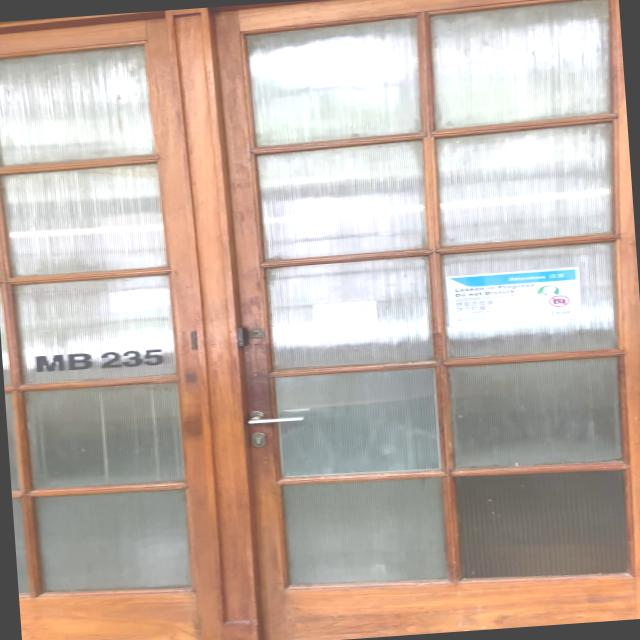room235Window: (27, 340, 172, 374)
